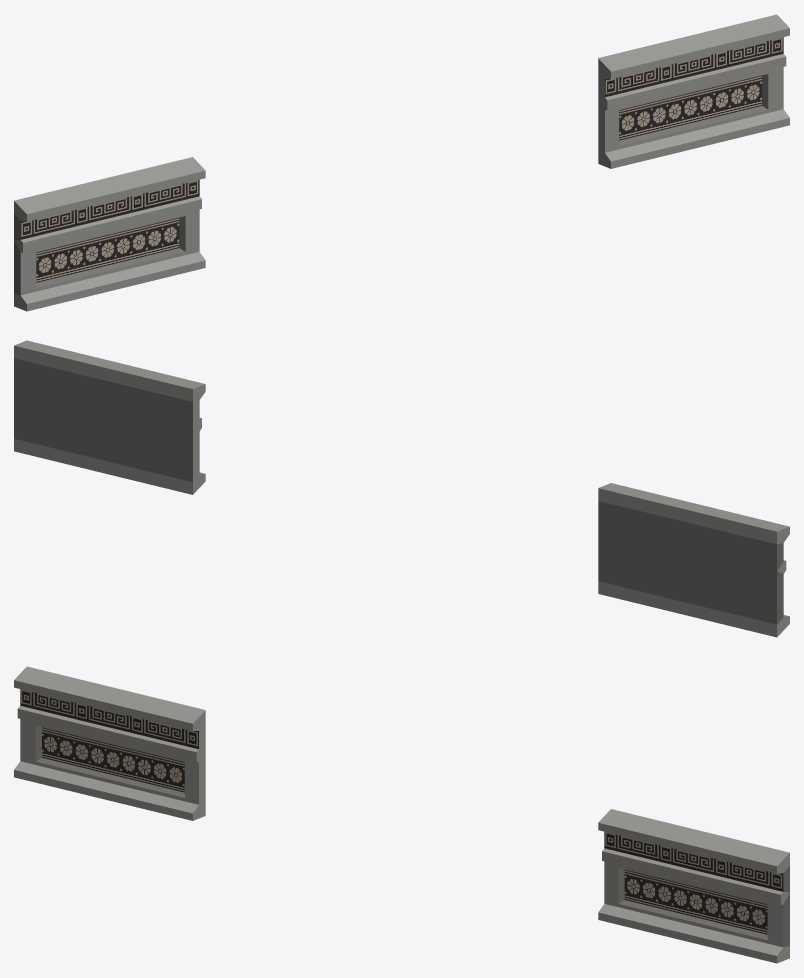
Rendered from ancient_SM_Bld_Trim_02_Window_01.gltf.
The picture shows the model from 3 angles, top to bottom: view 1: azimuth 30°, elevation 25°; view 2: azimuth 150°, elevation 25°; view 3: azimuth 330°, elevation 25°; orthographic projection.
Parts seen in each view (by area): view 1: SM_Bld_Trim_02_Window_01; view 2: SM_Bld_Trim_02_Window_01; view 3: SM_Bld_Trim_02_Window_01.
Boxes of the visible parts, box(x1,y1,x2,y2) form: SM_Bld_Trim_02_Window_01: box(14, 14, 789, 311); SM_Bld_Trim_02_Window_01: box(14, 340, 789, 637); SM_Bld_Trim_02_Window_01: box(14, 666, 789, 963).
Bounding box in the file's own units: 2.5 × 0.3311 × 0.0732.
Materials: 1 (1 with a texture image).
